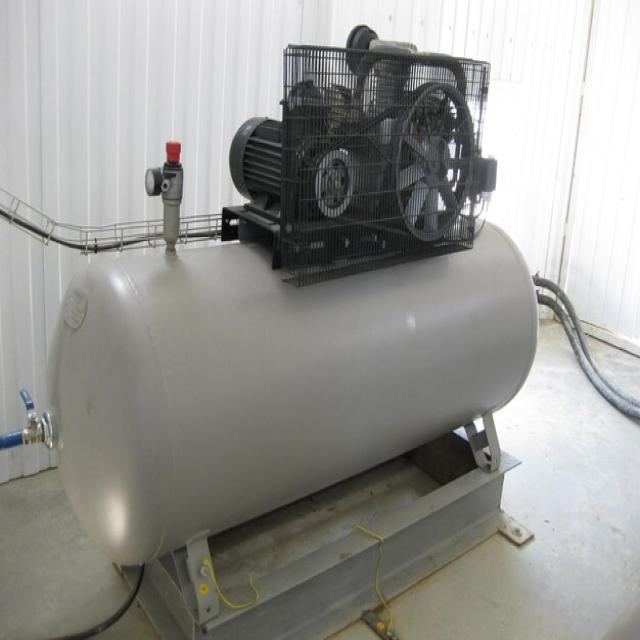compressor: (1, 35, 584, 630)
